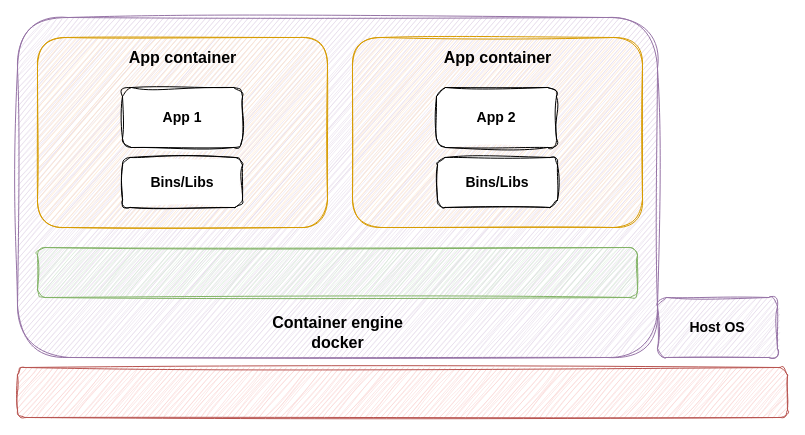
The diagram is 805 pixels wide and 435 high, and some of its shapes have lost their labels. The centre of each missing label's shape, as x and y in pixels:
"Container runtime (eg, runc)" goes at point (337, 272).
"Host Kernel" goes at point (402, 392).
